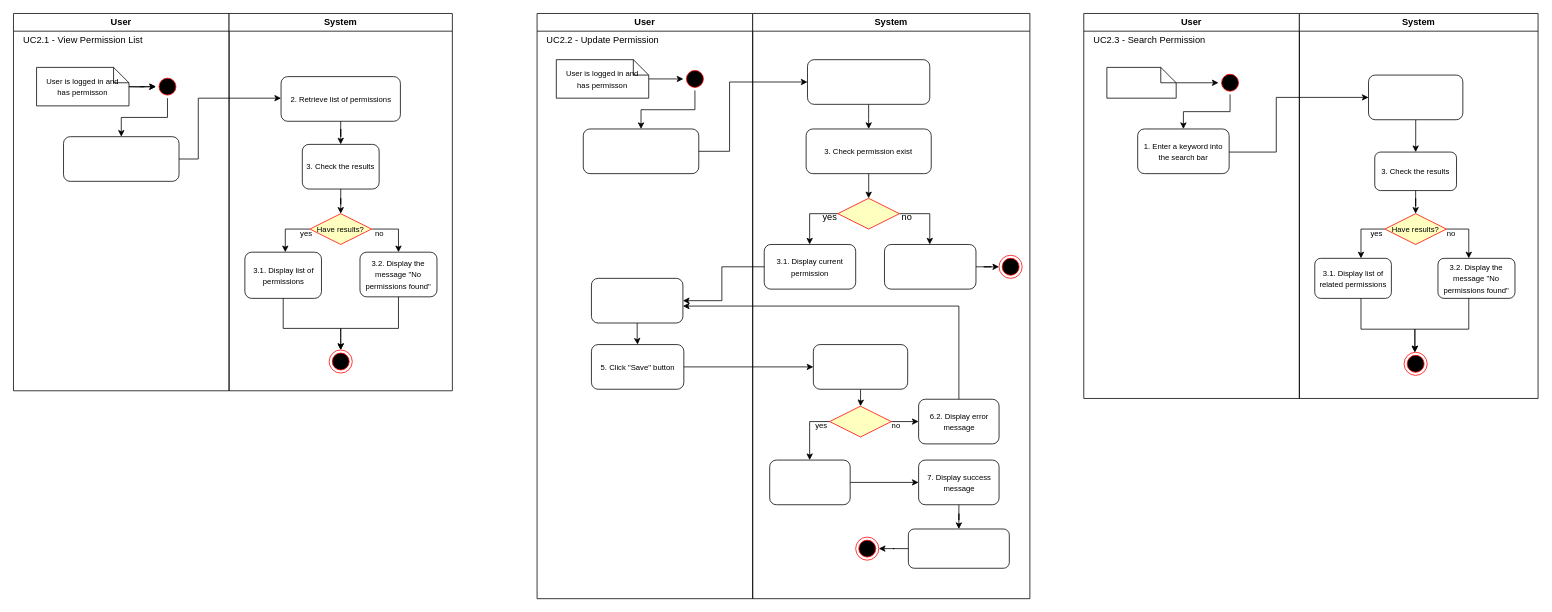
Image size: 1552x612. Some labels were removed from this diagram. Each missing label, with the centre of its shape:
1. Access to "Permission Management" page: (121,158)
1. Access to the specific permission page: (641,151)
2. Retrieve current permission: (868,81)
2. Retrieve relavant permissions: (1415,97)
3.2. Redirect user to "Not Found" page: (930,266)
4. Modify information: (637,300)
6. Validate user input: (860,366)
6.1. Update permission: (809,482)
8. Redirect user to permission list page to view the updated.: (958,548)
In UC2.1: (1141,82)
Is exist?: (868,213)
Is valid?: (860,421)
